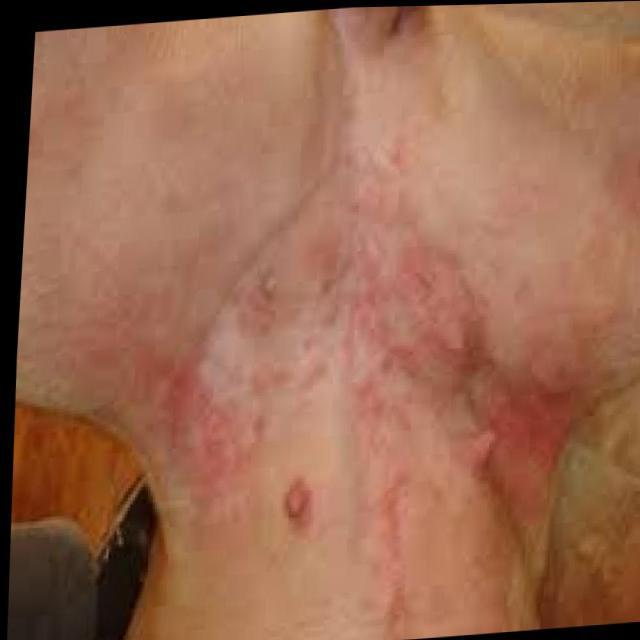allergic dermatitis: (346, 147, 463, 604), (472, 354, 566, 541)
